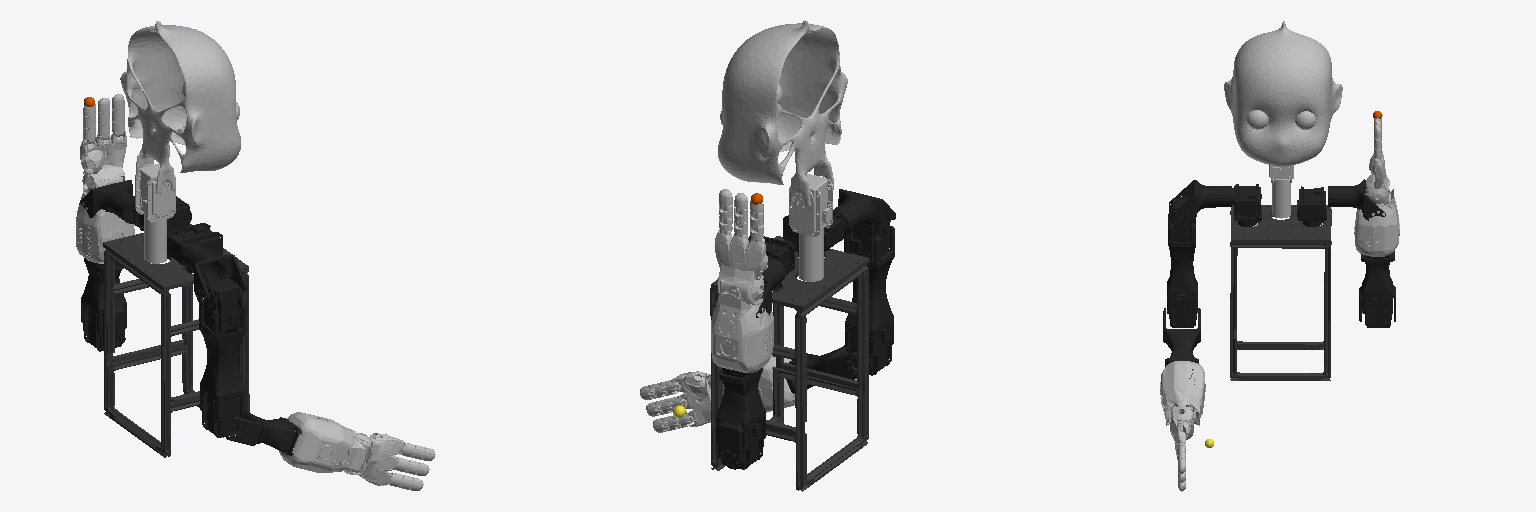
robot.urdf — nico_upper_rh6d:
<?xml version="1.0" ?>
<!-- =================================================================================== -->
<!-- |    This document was manually created   and the meshes resized and repositioned | -->
<!-- |    EDITING THIS FILE BY HAND IS NOT RECOMMENDED                                 | -->
<!-- =================================================================================== -->
<!--
  Copyright (c) 2023, [author]
  All rights reserved.

  This work is licensed under the Creative Commons Attribution-NonCommercial-NoDerivs 3.0 Unported License.
  To view a copy of this license, visit http://creativecommons.org/licenses/by-nc-nd/3.0/ or send a letter to
  Creative Commons, 444 Castro Street, Suite 900, Mountain View, California, 94041, USA.
-->
<robot name="nico_upper_rh6d">
	<link name="world" />
	<link name="torso">
		<visual>
			<geometry>
				<mesh filename="mesh/torso.stl"/>
			</geometry>
			<origin rpy="0 0 0" xyz="0.0 0.0 0.0"/>
			<material name="torso_color">
				<color rgba="0.270588 0.270588 0.270588 1"/>
			</material>
		</visual>
		<inertial>
			<mass value="0.090439"/>
			<inertia ixx="0.00006" ixy="-0" ixz="-0" iyy="0.000056" iyz="-0.000001" izz="0.000019"/>
			<origin rpy="0 0 0" xyz="0 0.000266 0.050352"/>
		</inertial>

	</link>
	<joint name="world_to_base_link" type="fixed">
    	<parent link="world"/>
    	<child link="torso"/>
  	</joint>
    <link name="neck">
		<visual>
			<geometry>
				<mesh filename="mesh/neck.stl"/>
			</geometry>
			<origin rpy="0 0 0" xyz="0.0 0.0 0.0"/>
			<material name="neck_color">
				<color rgba="0.74902 0.74902 0.74902 1"/>
			</material>
		</visual>
		<collision>
			<geometry>
				<mesh filename="mesh/neck.stl"/>
			</geometry>
			<origin rpy="0 0 0" xyz="0.0 0.0 0.0"/>
		</collision>
		<inertial>
			<mass value="0.090439"/>
			<inertia ixx="0.00006" ixy="-0" ixz="-0" iyy="0.000056" iyz="-0.000001" izz="0.000019"/>
			<origin rpy="0 0 0" xyz="0 0.000266 0.050352"/>
		</inertial>
	</link>
	<joint name="head_z" type="fixed">
		<parent link="torso"/>
		<child link="neck"/>
		<origin rpy="0 0 0" xyz="-0.025 0.005 0.23"/>
		<axis xyz="0 0 1"/>
		<limit effort="30" lower="-1.5708" upper="1.5708" velocity="1"/>
	</joint>
	<link name="head">
		<visual>
			<geometry>
				<mesh filename="mesh/head.stl"/>
			</geometry>
			<origin rpy="0 0 0" xyz="0 0 0"/>
			<material name="head_color">
				<color rgba="0.74902 0.74902 0.74902 1"/>
			</material>
		</visual>
		<collision>
			<geometry>
				<mesh filename="mesh/head.stl"/>
			</geometry>
			<origin rpy="0 0 0" xyz="0 0 0"/>
		</collision>
		<inertial>
			<mass value="0.294137"/>
			<inertia ixx="0.001424" ixy="-0" ixz="0.000083" iyy="0.00159" iyz="-0.000002" izz="0.001485"/>
			<origin rpy="0 0 0" xyz="0.01525 -0.023771 0.09423"/>
		</inertial>
	</link>
	<joint name="head_y" type="fixed">
		<parent link="neck"/>
		<child link="head"/>
		<origin rpy="0 0 0" xyz="0 0.0 0.105"/>
		<axis xyz="0 -1 0"/>
		<limit effort="30" lower="-0.8726" upper="0.4363" velocity="1"/>
	</joint>
	<link name="sight">
    	<!---visual>
      		<origin rpy="0 1.67 0" xyz="0.4 0.0 0.06"/>
      		<geometry>
        		<cylinder radius="0.001" length = "0.6"/>
      		</geometry>
    	</visual-->
		<inertial>
			<mass value="0.000009"/>
			<inertia ixx="0" ixy="0" ixz="-0" iyy="0" iyz="0" izz="0"/>
			<origin rpy="0 0 0" xyz="0.005409 0.000556 -0.005751"/>
		</inertial>
  	</link>
	<joint name="eyesight" type="fixed">
		<parent link="head"/>
		<child link="sight"/>
		<origin rpy="0 0 0" xyz="0 0.0 0.0"/>
		<axis xyz="0 0 0"/>
		<limit effort="30" lower="-0.8726" upper="0.4363" velocity="1"/>
	</joint>
	
    <!-- ====RIGHT ARM=== -->
	<link name="right_shoulder">
		<visual>
			<geometry>
				<mesh filename="mesh/right_shoulder.stl"/>
			</geometry>
			<origin rpy="0 0 0" xyz="0 0 0"/>
			<material name="right_shoulder_color">
				<color rgba="0.176471 0.176471 0.176471 1"/>
			</material>
		</visual>
		<collision>
			<geometry>
				<mesh filename="mesh/right_shoulder.stl"/>
			</geometry>
			<origin rpy="0 0 0" xyz="0 0 0"/>
		</collision>
		<inertial>
			<mass value="0.084038"/>
			<inertia ixx="0.000026" ixy="-0.000001" ixz="-0.000002" iyy="0.000034" iyz="-0" izz="0.000033"/>
			<origin rpy="0 0 0" xyz="0.005637 0.000876 0.033153"/>
		</inertial>
	</link>
	<joint name="r_shoulder_z_rjoint" type="revolute">
		<parent link="torso"/>
		<child link="right_shoulder"/>
		<origin rpy="0 0 0" xyz="0.005 -0.045 0.23"/>
		<axis xyz="0 0 1"/>
		<limit effort="30" lower="-0.4363" upper="1.3963" velocity="1"/>
	</joint>
	<link name="right_collarbone">
		<visual>
			<geometry>
				<mesh filename="mesh/right_collar.stl"/>
			</geometry>
			<origin rpy="0 0 0" xyz="0 0 0"/>
			<material name="right_collarbone_color">
				<color rgba="0.176471 0.176471 0.176471 1"/>
			</material>
		</visual>
		<collision>
			<geometry>
				<mesh filename="mesh/right_collar.stl"/>
			</geometry>
			<origin rpy="0 0 0" xyz="0 0 0"/>
		</collision>
		<inertial>
			<mass value="0.024811"/>
			<inertia ixx="0.000014" ixy="-0" ixz="0" iyy="0.000011" iyz="-0.000001" izz="0.000019"/>
			<origin rpy="0 0 0" xyz="-0 -0.041345 -0.002364"/>
		</inertial>
	</link>
	<joint name="r_shoulder_y_rjoint" type="revolute">
		<parent link="right_shoulder"/>
		<child link="right_collarbone"/>
		<origin rpy="0 0 0" xyz="-0.021 -0.023 0.033"/>
		<axis xyz="0 -1 0"/>
		<limit effort="30" lower="0" upper="3.1416" velocity="1"/>
	</joint>
	<link name="right_upper_arm">
		<visual>
			<geometry>
				<mesh filename="mesh/right_upper_arm.stl"/>
			</geometry>
			<origin rpy="0 0 0" xyz="0 0 0"/>
			<material name="right_upper_arm_color">
				<color rgba="0.176471 0.176471 0.176471 1"/>
			</material>
		</visual>
		<collision>
			<geometry>
				<mesh filename="mesh/right_upper_arm.stl"/>
			</geometry>
			<origin rpy="0 0 0" xyz="0 0 0"/>
		</collision>
		<inertial>
			<mass value="0.189729"/>
			<inertia ixx="0.000851" ixy="0" ixz="0" iyy="0.000851" iyz="-0.000005" izz="0.000048"/>
			<origin rpy="0 0 0" xyz="-0.02306 -0.000321 -0.0866"/>
		</inertial>
	</link>
	<joint name="r_arm_x_rjoint" type="revolute">
		<parent link="right_collarbone"/>
		<child link="right_upper_arm"/>
		<origin rpy="0 0 0" xyz="0.00 -0.073 -0.023"/>
		<axis xyz="-1 0 0"/>
		<limit effort="30" lower="0" upper="1.2217" velocity="1"/>
	</joint>
	<link name="right_lower_arm">
		<visual>
			<geometry>
				<mesh filename="mesh/right_lower_arm.stl"/>
			</geometry>
			<origin rpy="0 0 0" xyz="0 0 0"/>
			<material name="right_lower_arm_color">
				<color rgba="0.176471 0.176471 0.176471 1"/>
			</material>
		</visual>
		<collision>
			<geometry>
				<mesh filename="mesh/right_lower_arm.stl"/>
			</geometry>
			<origin rpy="0 0 0" xyz="0 0 0"/>
		</collision>
		<inertial>
			<mass value="0.076793"/>
			<inertia ixx="0.000104" ixy="-0" ixz="-0" iyy="0.000095" iyz="-0.000002" izz="0.000021"/>
			<origin rpy="0 0 0" xyz="0 0.022485 -0.081055"/>
		</inertial>
	</link>
	<joint name="r_elbow_y_rjoint" type="revolute">
		<parent link="right_upper_arm"/>
		<child link="right_lower_arm"/>
		<origin rpy="0 3.14 0" xyz="0.0 0 -0.17"/>
		<axis xyz="0 1 0"/>
		<limit effort="30" lower="0.8726" upper="3.1416" velocity="1"/>
	</joint>
	<link name="right_wrist">
		<visual>
			<geometry>
				<mesh filename="mesh/right_wrist.stl"/>
			</geometry>
			<origin rpy="0 0 0" xyz="0 0 0"/>
			<material name="right_wrist_color">
				<color rgba="0.74902 0.74902 0.74902 1"/>
			</material>
		</visual>
		<collision>
			<geometry>
				<mesh filename="mesh/right_wrist.stl"/>
			</geometry>
			<origin rpy="0 0 0" xyz="0 0 0"/>
		</collision>
		<inertial>
			<mass value="0.028397"/>
			<inertia ixx="0.000043" ixy="-0" ixz="0.000004" iyy="0.000058" iyz="-0.000007" izz="0.000029"/>
			<origin rpy="0 0 0" xyz="0.000031 -0.011056 -0.0675"/>
		</inertial>
	</link>
	<joint name="r_wrist_z_rjoint" type="revolute">
		<parent link="right_lower_arm"/>
		<child link="right_wrist"/>
		<origin rpy="0 0 1.57" xyz="0 0 -0.105"/>
		<axis xyz="0 0 1"/>
		<limit effort="30" lower="-1.57079633" upper="1.57079633" velocity="1"/>
	</joint>
	<link name="gripper"> <!--gripper-->
		<visual>
			<geometry>
				<mesh filename="mesh/right_palm.stl"/>
			</geometry>
			<origin rpy="0 0 0" xyz="0 0 0"/>
			<material name="gripper_color">
				<color rgba="0.74902 0.74902 0.74902 1"/>
			</material>
		</visual>
		<collision>
			<geometry>
				<mesh filename="mesh/right_palm.stl"/>
			</geometry>
			<origin rpy="0 0 0" xyz="0 0 0"/>
		</collision>
		<inertial>
			<mass value="0.005332"/>
			<inertia ixx="0.000015" ixy="0.000001" ixz="-0.000004" iyy="0.000017" iyz="0.000004" izz="0.000006"/>
			<origin rpy="0 0 0" xyz="-0.029511 0.002253 -0.023968"/>
		</inertial>
	</link>
	<joint name="r_wrist_x_rjoint" type="revolute">
		<parent link="right_wrist"/>
		<child link="gripper"/>
		<origin rpy="0 0 0" xyz="0 0 -0.10"/>
		<axis xyz="0 -1 0"/>
		<limit effort="30" lower="-0.785398163" upper="0.785398163" velocity="1"/>
	</joint>
	<link name="endeffector">
    	<visual>
      		<origin rpy="0 0 0" xyz="0 0.0 0.0"/>
      		<geometry>
        		<sphere radius="0.007"/>
      		</geometry>
    	</visual>
  	</link>
	<joint name="endeffector_joint" type="fixed">
    	<parent link="gripper"/>
    	<child link="endeffector"/>
    	<origin rpy="0 0 0" xyz="0.04 -0.0 -0.04"/>
	</joint>
	<link name="r_middlefinger">
		<visual>
			<geometry>
				<mesh filename="mesh/finger.stl"/>
			</geometry>
			<origin rpy="0 0 0" xyz="0 0 0"/>
			<material name="finger_color">
				<color rgba="0.74902 0.74902 0.74902 1"/>
			</material>
		</visual>
		<!--collision>
			<geometry>
				<mesh filename="mesh/finger.stl"/>
			</geometry>
			<origin rpy="0 0 0" xyz="0 0 0"/>
		</collision>-->
		<inertial>
			<mass value="0.000009"/>
			<inertia ixx="0" ixy="0" ixz="-0" iyy="0" iyz="0" izz="0"/>
			<origin rpy="0 0 0" xyz="0.005409 0.000556 -0.005751"/>
		</inertial>
	</link>
	<link name="r_littlefinger">
		<visual>
			<geometry>
				<mesh filename="mesh/finger.stl"/>
			</geometry>
			<origin rpy="0 0 0" xyz="0 0 0"/>
			<material name="finger_color">
				<color rgba="0.74902 0.74902 0.74902 1"/>
			</material>
		</visual>
		<!--collision>
			<geometry>
				<mesh filename="mesh/finger.stl"/>
			</geometry>
			<origin rpy="0 0 0" xyz="0 0 0"/>
		</collision>-->
		<inertial>
			<mass value="0.000009"/>
			<inertia ixx="0" ixy="0" ixz="-0" iyy="0" iyz="0" izz="0"/>
			<origin rpy="0 0 0" xyz="0.005409 0.000556 -0.005751"/>
		</inertial>
	</link>
	<link name="r_indexfinger"> <!--indexfinder-->
		<visual>
			<geometry>
				<mesh filename="mesh/finger.stl"/>
			</geometry>
			<origin rpy="0 0 0" xyz="0 0 0"/>
			<material name="finger_color">
				<color rgba="0.74902 0.74902 0.74902 1"/>
			</material>
		</visual>
		<!--collision>
			<geometry>
				<mesh filename="mesh/finger.stl"/>
			</geometry>
			<origin rpy="0 0 0" xyz="0 0 0"/>
		</collision>-->
		<inertial>
			<mass value="0.000009"/>
			<inertia ixx="0" ixy="0" ixz="-0" iyy="0" iyz="0" izz="0"/>
			<origin rpy="0 0 0" xyz="0.005409 0.000556 -0.005751"/>
		</inertial>
	</link>
	<joint name="r_middlefinger_x" type="fixed">
		<parent link="gripper"/>
		<child link="r_middlefinger"/>
		<origin rpy="0 0 0" xyz="0 0 -0.06"/>
		<axis xyz="0 1 0"/>
		<limit effort="30" lower="-2.57" upper="0" velocity="5"/>
	</joint>
	<joint name="r_litlefinger_x_gjoint" type="revolute">
		<parent link="gripper"/>
		<child link="r_littlefinger"/>
		<origin rpy="0 0 0" xyz="0.00 0.02 -0.06"/>
		<axis xyz="0 1 0"/>
		<limit effort="30" lower="-2.57" upper="0" velocity="5"/>
	</joint>
	<joint name="r_indexfinger_x_gjoint" type="revolute">
		<parent link="gripper"/>
		<child link="r_indexfinger"/>
		<origin rpy="0 0 0" xyz="0.00 -0.02 -0.06"/>
		<axis xyz="0 1 0"/>
		<limit effort="30" lower="-2.57" upper="0" velocity="5"/>
	</joint>
    <!-- ====LEFT ARM=== -->
    <link name="left_shoulder">
		<visual>
			<geometry>
				<mesh filename="mesh/left_shoulder.stl"/>
			</geometry>
			<origin rpy="0 0 0" xyz="0 0 0"/>
			<material name="left_shoulder_color">
				<color rgba="0.176471 0.176471 0.176471 1"/>
			</material>
		</visual>
		<collision>
			<geometry>
				<mesh filename="mesh/left_shoulder.stl"/>
			</geometry>
			<origin rpy="0 0 0" xyz="0 0 0"/>
		</collision>
		<inertial>
			<mass value="0.084038"/>
			<inertia ixx="0.000026" ixy="-0.000001" ixz="-0.000002" iyy="0.000034" iyz="-0" izz="0.000033"/>
			<origin rpy="0 0 0" xyz="0.005637 0.000876 0.033153"/>
		</inertial>
	</link>
	<joint name="l_shoulder_z" type="fixed">
		<parent link="torso"/>
		<child link="left_shoulder"/>
		<origin rpy="0 0 0" xyz="0.005 0.05 0.23"/>
		<axis xyz="0 0 -1"/>
		<limit effort="30" lower="-1.3963" upper="0.4363" velocity="1"/>
	</joint>
	<link name="left_collarbone">
		<visual>
			<geometry>
				<mesh filename="mesh/left_collar.stl"/>
			</geometry>
			<origin rpy="0 0 0" xyz="0 0 0"/>
			<material name="right_collarbone_color">
				<color rgba="0.176471 0.176471 0.176471 1"/>
			</material>
		</visual>
		<collision>
			<geometry>
				<mesh filename="mesh/left_collar.stl"/>
			</geometry>
			<origin rpy="0 0 0" xyz="0 0 0"/>
		</collision>
		<inertial>
			<mass value="0.024811"/>
			<inertia ixx="0.000014" ixy="-0" ixz="0" iyy="0.000011" iyz="-0.000001" izz="0.000019"/>
			<origin rpy="0 0 0" xyz="-0 -0.041345 -0.002364"/>
		</inertial>
	</link>
	<joint name="l_shoulder_y" type="fixed">
		<parent link="left_shoulder"/>
		<child link="left_collarbone"/>
		<origin rpy="0 0 0" xyz="-0.021 0.023 0.033"/>
		<axis xyz="0 -1 0"/>
		<limit effort="30" lower="-0.5236" upper="3.1416" velocity="1"/>
	</joint>
	<link name="left_upper_arm">
		<visual>
			<geometry>
				<mesh filename="mesh/right_upper_arm.stl"/>
			</geometry>
			<origin rpy="0 0 0" xyz="0 0 0"/>
			<material name="right_upper_arm_color">
				<color rgba="0.176471 0.176471 0.176471 1"/>
			</material>
		</visual>
		<collision>
			<geometry>
				<mesh filename="mesh/right_upper_arm.stl"/>
			</geometry>
			<origin rpy="0 0 0" xyz="0 0 0"/>
		</collision>
		<inertial>
			<mass value="0.189729"/>
			<inertia ixx="0.000851" ixy="0" ixz="0" iyy="0.000851" iyz="-0.000005" izz="0.000048"/>
			<origin rpy="0 0 0" xyz="-0.02306 -0.000321 -0.0866"/>
		</inertial>
	</link>
	<joint name="l_arm_x" type="fixed">
		<parent link="left_collarbone"/>
		<child link="left_upper_arm"/>
		<origin rpy="0 0 0" xyz="0.00 0.073 -0.023"/>
		<axis xyz="1 0 0"/>
		<limit effort="30" lower="0" upper="1.2217" velocity="1"/>
	</joint>
	<link name="left_lower_arm">
		<visual>
			<geometry>
				<mesh filename="mesh/right_lower_arm.stl"/>
			</geometry>
			<origin rpy="0 0 0" xyz="0 0 0"/>
			<material name="right_lower_arm_color">
				<color rgba="0.176471 0.176471 0.176471 1"/>
			</material>
		</visual>
		<collision>
			<geometry>
				<mesh filename="mesh/right_lower_arm.stl"/>
			</geometry>
			<origin rpy="0 0 0" xyz="0 0 0"/>
		</collision>
		<inertial>
			<mass value="0.076793"/>
			<inertia ixx="0.000104" ixy="-0" ixz="-0" iyy="0.000095" iyz="-0.000002" izz="0.000021"/>
			<origin rpy="0 0 0" xyz="0 0.022485 -0.081055"/>
		</inertial>
	</link>
	<joint name="l_elbow_y" type="fixed">
		<parent link="left_upper_arm"/>
		<child link="left_lower_arm"/>
		<origin rpy="0 3.14 0" xyz="0.0 0 -0.17"/>
		<axis xyz="0 1 0"/>
		<limit effort="30" lower="0.8726" upper="3.1416" velocity="1"/>
	</joint>
	<link name="left_wrist">
		<visual>
			<geometry>
				<mesh filename="mesh/left_wrist.stl"/>
			</geometry>
			<origin rpy="0 0 0" xyz="0 0 0"/>
			<material name="right_wrist_color">
				<color rgba="0.74902 0.74902 0.74902 1"/>
			</material>
		</visual>
		<collision>
			<geometry>
				<mesh filename="mesh/left_wrist.stl"/>
			</geometry>
			<origin rpy="0 0 0" xyz="0 0 0"/>
		</collision>
		<inertial>
			<mass value="0.028397"/>
			<inertia ixx="0.000043" ixy="-0" ixz="0.000004" iyy="0.000058" iyz="-0.000007" izz="0.000029"/>
			<origin rpy="0 0 0" xyz="0.000031 -0.011056 -0.0675"/>
		</inertial>
	</link>
	<joint name="l_wrist_z" type="fixed">
		<parent link="left_lower_arm"/>
		<child link="left_wrist"/>
		<origin rpy="0 0 1.57" xyz="0 0 -0.105"/>
		<axis xyz="0 0 -1"/>
		<limit effort="30" lower="-1.571" upper="1.571" velocity="1"/>
	</joint>
	<link name="left_palm"> <!--gripper-->
		<visual>
			<geometry>
				<mesh filename="mesh/left_palm.stl"/>
			</geometry>
			<origin rpy="0 0 0" xyz="0 0 0"/>
			<material name="gripper_color">
				<color rgba="0.74902 0.74902 0.74902 1"/>
			</material>
		</visual>
		<collision>
			<geometry>
				<mesh filename="mesh/left_palm.stl"/>
			</geometry>
			<origin rpy="0 0 0" xyz="0 0 0"/>
		</collision>
		<inertial>
			<mass value="0.005332"/>
			<inertia ixx="0.000015" ixy="0.000001" ixz="-0.000004" iyy="0.000017" iyz="0.000004" izz="0.000006"/>
			<origin rpy="0 0 0" xyz="-0.029511 0.002253 -0.023968"/>
		</inertial>
	</link>
	<joint name="l_wrist_x" type="fixed">
		<parent link="left_wrist"/>
		<child link="left_palm"/>
		<origin rpy="0 0 0" xyz="0 0 -0.10"/>
		<axis xyz="0 1 0"/>
		<limit effort="30" lower="-.78" upper="0.78" velocity="1"/>
	</joint>
    <link name="endeffectol">
    	<visual>
      		<origin rpy="0 0 0" xyz="0 0.0 0.0"/>
      		<geometry>
        		<sphere radius="0.007"/>
      		</geometry>
    	</visual>
  	</link>
	<joint name="endeffectol_joint" type="fixed">
    	<parent link="left_palm"/>
    	<child link="endeffectol"/>
    	<origin rpy="0 0 0" xyz="0.00 -0.02 -0.11"/>
	</joint>
	<link name="l_middlefinger">
		<visual>
			<geometry>
				<mesh filename="mesh/finger.stl"/>
			</geometry>
			<origin rpy="0 0 0" xyz="0 0 0"/>
			<material name="finger_color">
				<color rgba="0.74902 0.74902 0.74902 1"/>
			</material>
		</visual>
		<collision>
			<geometry>
				<mesh filename="mesh/finger.stl"/>
			</geometry>
			<origin rpy="0 0 0" xyz="0 0 0"/>
		</collision>
		<inertial>
			<mass value="0.000009"/>
			<inertia ixx="0" ixy="0" ixz="-0" iyy="0" iyz="0" izz="0"/>
			<origin rpy="0 0 0" xyz="0.005409 0.000556 -0.005751"/>
		</inertial>
	</link>
	<link name="l_littlefinger">
		<visual>
			<geometry>
				<mesh filename="mesh/finger.stl"/>
			</geometry>
			<origin rpy="0 0 0" xyz="0 0 0"/>
			<material name="finger_color">
				<color rgba="0.74902 0.74902 0.74902 1"/>
			</material>
		</visual>
		<collision>
			<geometry>
				<mesh filename="mesh/finger.stl"/>
			</geometry>
			<origin rpy="0 0 0" xyz="0 0 0"/>
		</collision>
		<inertial>
			<mass value="0.000009"/>
			<inertia ixx="0" ixy="0" ixz="-0" iyy="0" iyz="0" izz="0"/>
			<origin rpy="0 0 0" xyz="0.005409 0.000556 -0.005751"/>
		</inertial>
	</link>
	<link name="l_indexfinger"> <!--indexfinder-->
		<visual>
			<geometry>
				<mesh filename="mesh/finger.stl"/>
			</geometry>
			<origin rpy="0 0 0" xyz="0 0 0"/>
			<material name="finger_color">
				<color rgba="0.74902 0.74902 0.74902 1"/>
			</material>
		</visual>
		<collision>
			<geometry>
				<mesh filename="mesh/finger.stl"/>
			</geometry>
			<origin rpy="0 0 0" xyz="0 0 0"/>
		</collision>
		<inertial>
			<mass value="0.000009"/>
			<inertia ixx="0" ixy="0" ixz="-0" iyy="0" iyz="0" izz="0"/>
			<origin rpy="0 0 0" xyz="0.005409 0.000556 -0.005751"/>
		</inertial>
	</link>
	<joint name="l_middlefinger_x" type="fixed">
		<parent link="left_palm"/>
		<child link="l_middlefinger"/>
		<origin rpy="0 0 0" xyz="0 0 -0.06"/>
		<axis xyz="0 1 0"/>
		<limit effort="30" lower="-2.57" upper="0" velocity="1"/>
	</joint>
	<joint name="l_litlefinger_x" type="fixed">
		<parent link="left_palm"/>
		<child link="l_littlefinger"/>
		<origin rpy="0 0 0" xyz="0.00 0.02 -0.06"/>
		<axis xyz="0 1 0"/>
		<limit effort="30" lower="-2.57" upper="0" velocity="1"/>
	</joint>
	<joint name="l_indexfiner_x" type="fixed">
		<parent link="left_palm"/>
		<child link="l_indexfinger"/>
		<origin rpy="0 0 0" xyz="0.00 -0.02 -0.06"/>
		<axis xyz="0 1 0"/>
		<limit effort="30" lower="0" upper="2.57" velocity="1"/>
	</joint>
</robot>

--- What the picture shows (computed from the rendered views, not written in the file) ---
The picture shows the robot from 3 angles, left to right: view 1: azimuth 30°, elevation 25°; view 2: azimuth 150°, elevation 25°; view 3: azimuth 270°, elevation 25°; orthographic projection.
Model nico_upper_rh6d with 25 links and 24 joints (8 revolute, 16 fixed), rooted at world, posed all joints at 0 but 1 set to mid-range because 0 is outside their limits (r_elbow_y_rjoint = 2.01).
Links seen in each view (by area): view 1: head, torso, right_upper_arm, right_wrist, neck, left_wrist, left_palm, right_collarbone, right_lower_arm, left_upper_arm, gripper, left_collarbone (+3 smaller); view 2: head, torso, left_wrist, right_upper_arm, neck, left_upper_arm, left_palm, right_collarbone, left_lower_arm, gripper, right_lower_arm, right_wrist (+6 smaller); view 3: head, torso, right_upper_arm, right_wrist, left_wrist, left_upper_arm, right_collarbone, right_lower_arm, left_collarbone, right_shoulder, neck, left_shoulder (+3 smaller).
Boxes of the visible links, x1,y1,x2,y2 form: head: (120,21,240,193); torso: (103,224,249,457); right_upper_arm: (199,277,245,437); right_wrist: (279,412,370,472); neck: (135,164,175,263); left_wrist: (76,175,134,263); left_palm: (80,130,126,193); right_collarbone: (181,243,246,305); right_lower_arm: (226,411,301,455); left_upper_arm: (81,261,126,351); gripper: (342,433,403,485); left_collarbone: (79,180,134,223); head: (718,20,847,206); torso: (710,236,869,491); left_wrist: (711,279,773,372); right_upper_arm: (844,221,894,375); neck: (789,174,832,281); left_upper_arm: (716,368,765,469); left_palm: (715,229,767,300); right_collarbone: (833,189,895,235); left_lower_arm: (718,368,763,464); gripper: (671,371,710,426); right_lower_arm: (786,345,856,393); right_wrist: (708,355,807,412); head: (1224,21,1342,166); torso: (1230,205,1331,380); right_upper_arm: (1167,197,1197,327); right_wrist: (1160,361,1205,425); left_wrist: (1354,188,1399,256); left_upper_arm: (1362,255,1392,327); right_collarbone: (1174,180,1231,225); right_lower_arm: (1163,308,1200,366); left_collarbone: (1328,179,1385,220); right_shoulder: (1232,184,1261,226); neck: (1269,165,1293,218); left_shoulder: (1297,186,1326,226).
Bounding box of the posed robot: 0.3379 × 0.3512 × 0.6327 m (x, y, z).
21 mesh visuals loaded from 14 distinct referenced files (14 binary STL).
